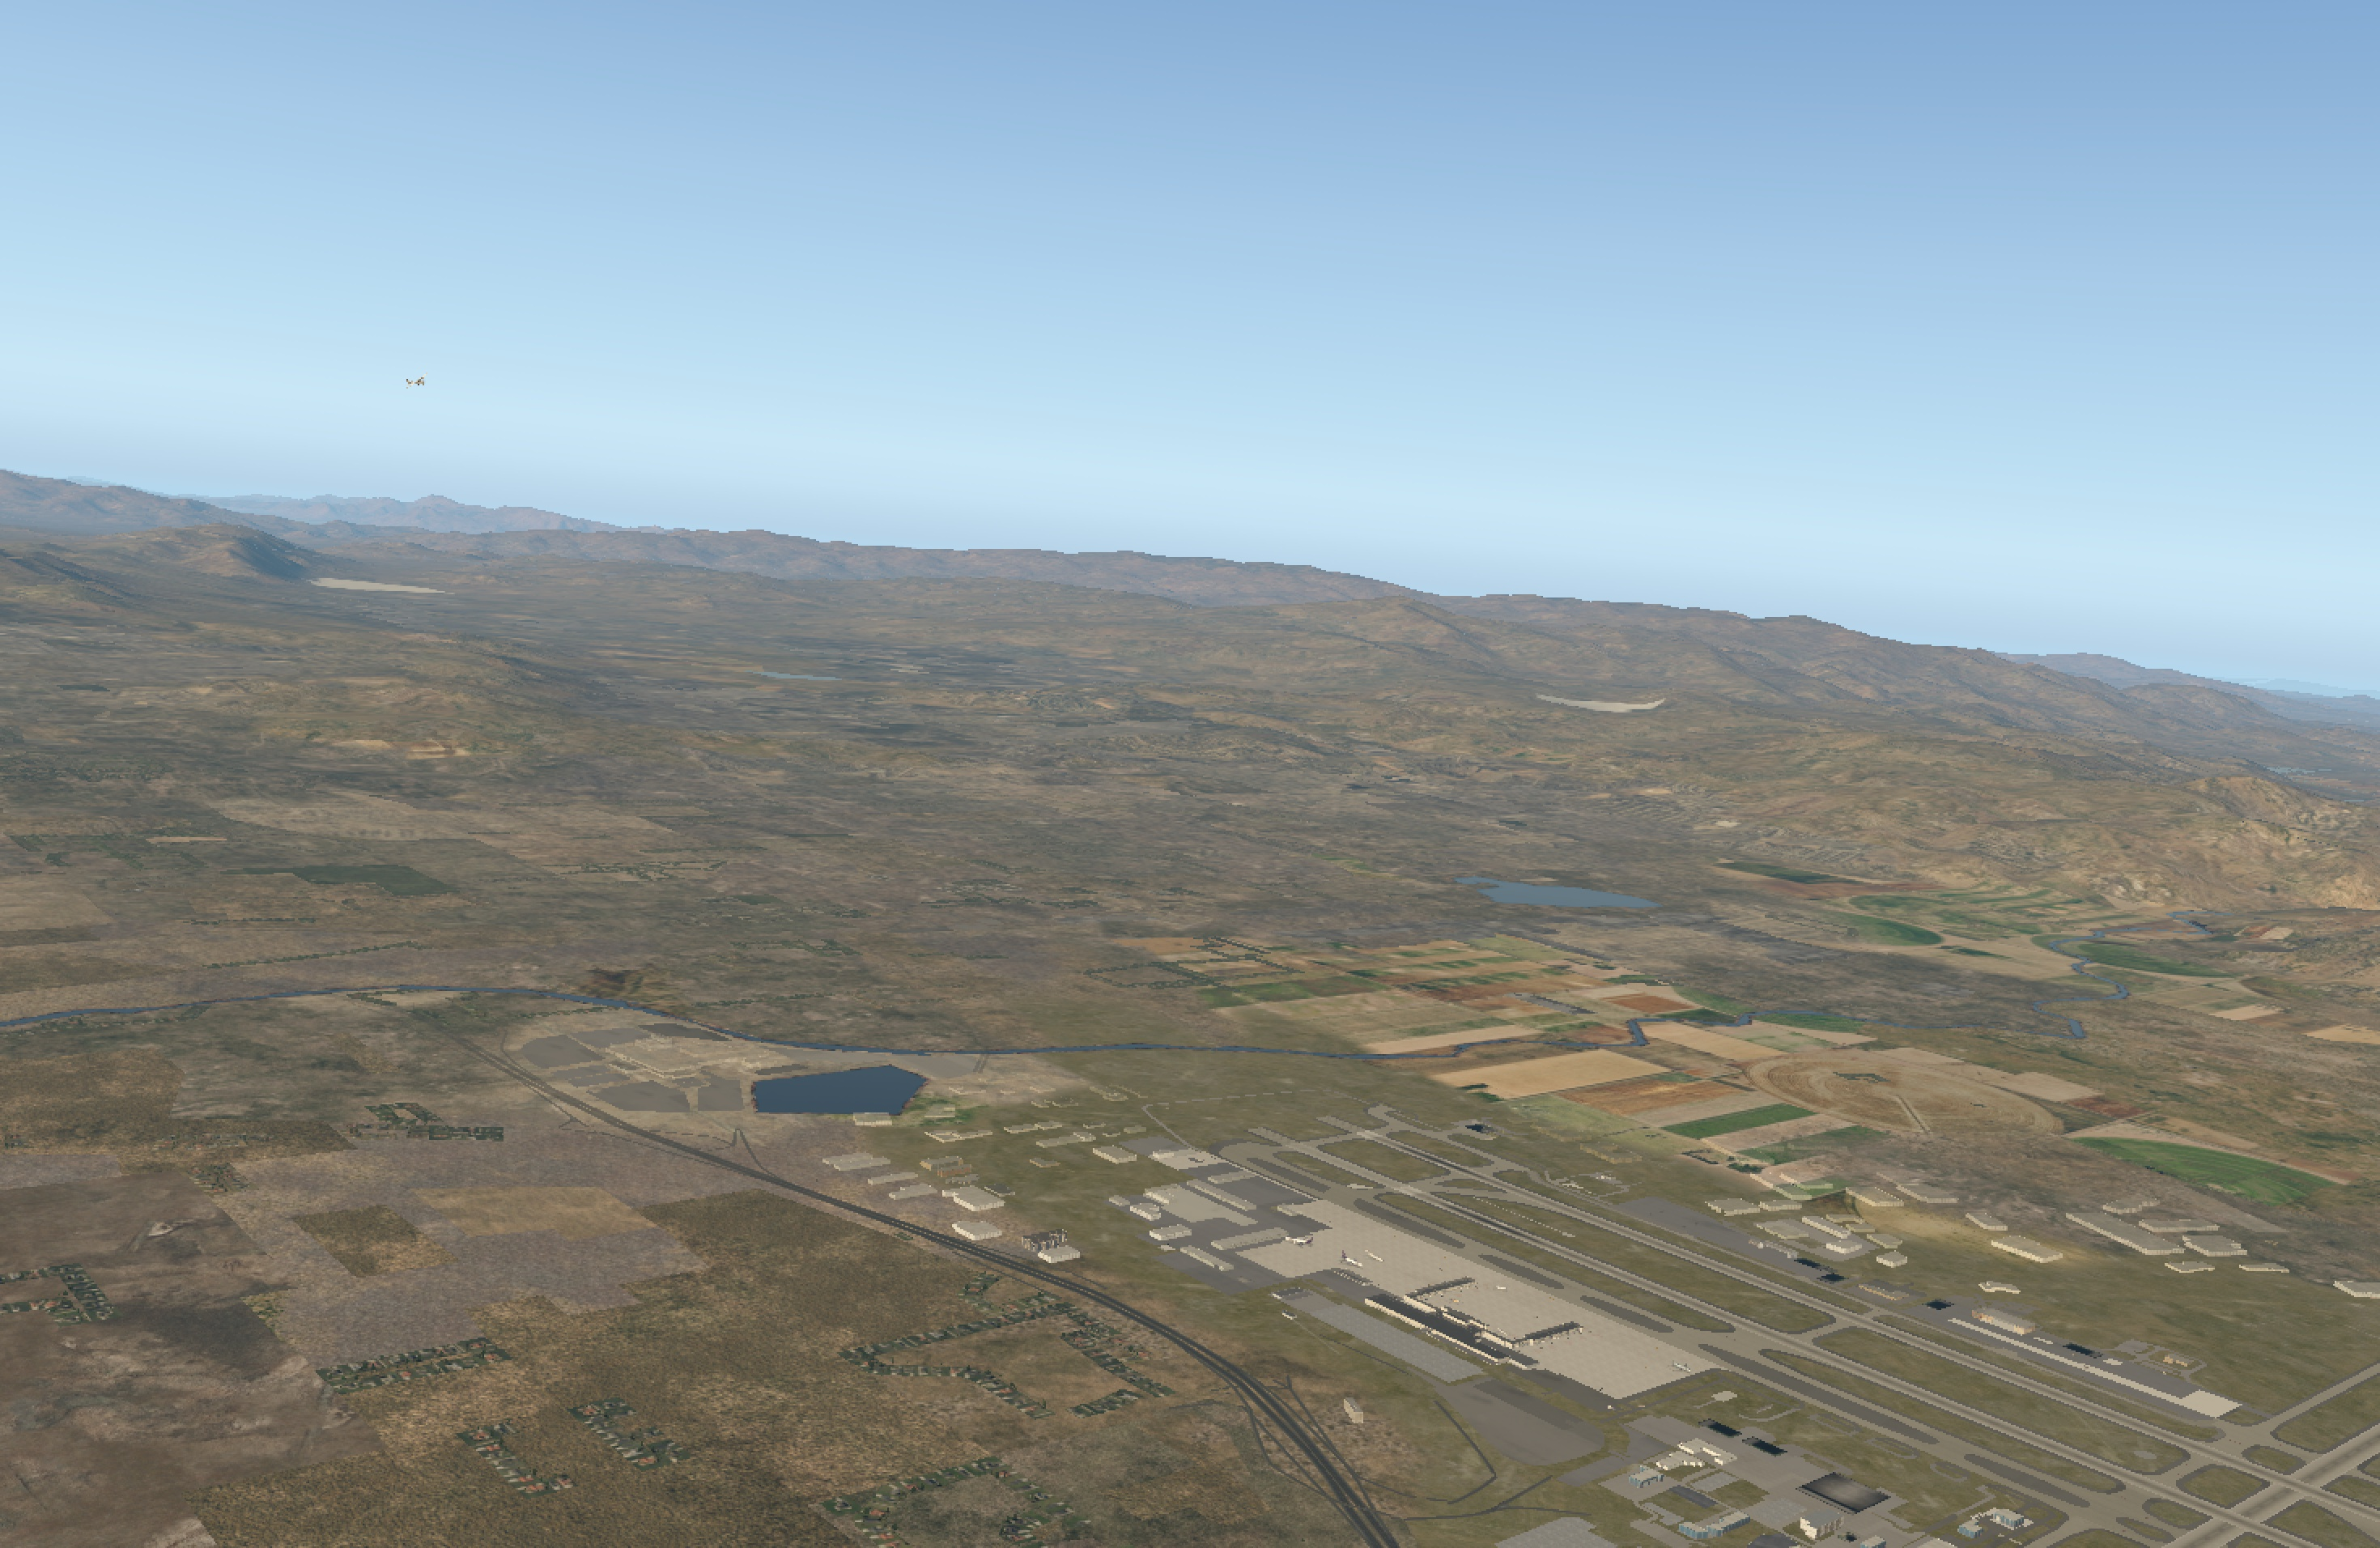aircraft: (408, 378, 430, 385)
